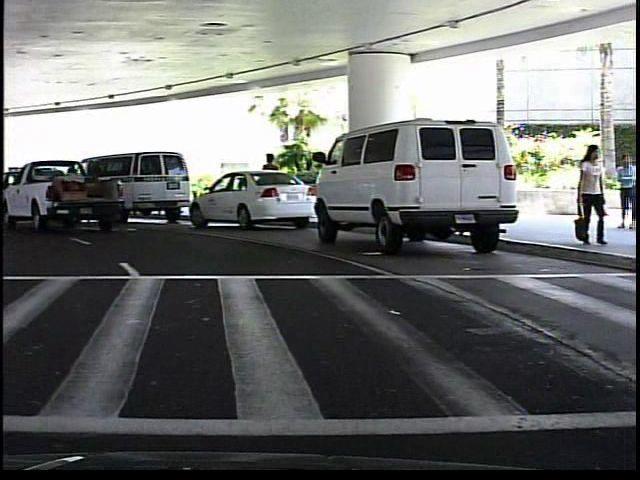person: (571, 141, 605, 248), (613, 154, 636, 234), (259, 148, 285, 215)
